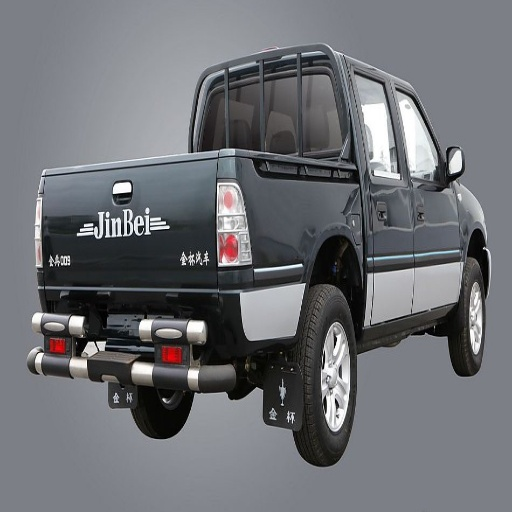back_right_door: (352, 62, 413, 316), (259, 74, 301, 143)
trunk: (44, 152, 360, 339)
